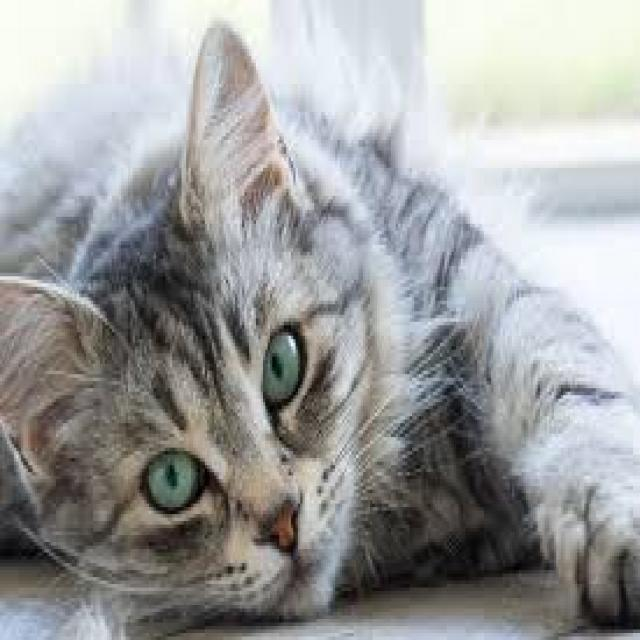Cat: (0, 21, 638, 640)
